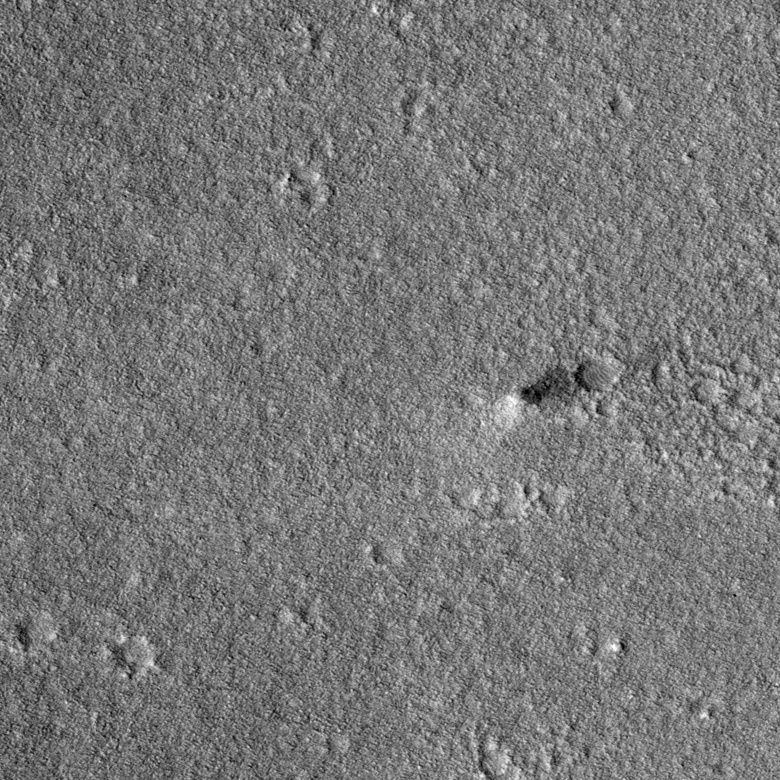dust_devil: (496, 357, 574, 425)
